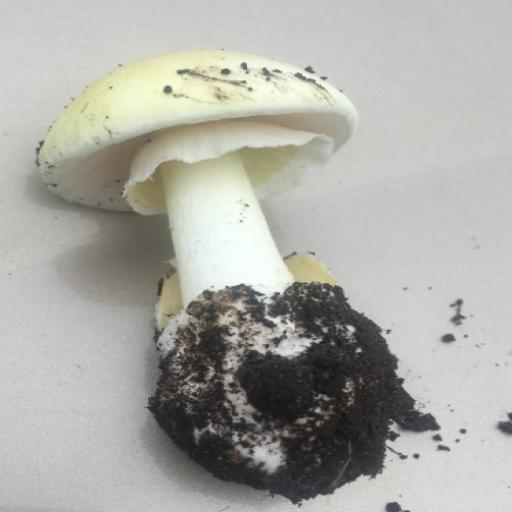mushroom: (18, 0, 504, 512)
